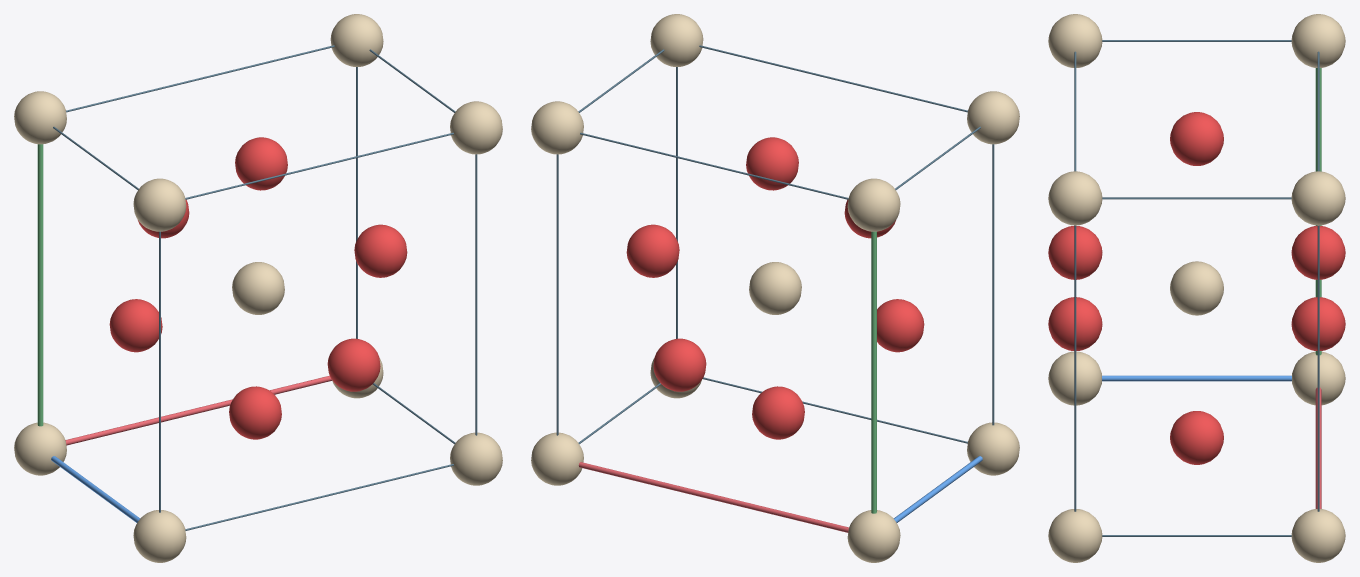
Rendered from pyrolusite.glb.
3 renders of one model, left to right at view 1: azimuth 30°, elevation 25°; view 2: azimuth 150°, elevation 25°; view 3: azimuth 270°, elevation 25°, orthographic.
Visible parts, largest first — view 1: Mn · Mn · 1 (×8), O · O · 1 (×5), Ô mạng và các trục a, b, c; view 2: Mn · Mn · 1 (×8), O · O · 1 (×5), Ô mạng và các trục a, b, c; view 3: Mn · Mn · 1 (×9), O · O · 1 (×6), Ô mạng và các trục a, b, c.
Part boxes in pixels (<box>): Mn · Mn · 1 (×8): <box>14,14,502,562</box>; O · O · 1 (×5): <box>109,137,407,439</box>; Ô mạng và các trục a, b, c: <box>37,45,477,530</box>; Mn · Mn · 1 (×8): <box>531,14,1019,562</box>; O · O · 1 (×5): <box>626,137,924,439</box>; Ô mạng và các trục a, b, c: <box>556,45,994,532</box>; Mn · Mn · 1 (×9): <box>1048,14,1345,562</box>; O · O · 1 (×6): <box>1048,112,1345,464</box>; Ô mạng và các trục a, b, c: <box>1074,40,1321,536</box>.
Size of the model in its own units: 5.04 by 5.04 by 3.51.
